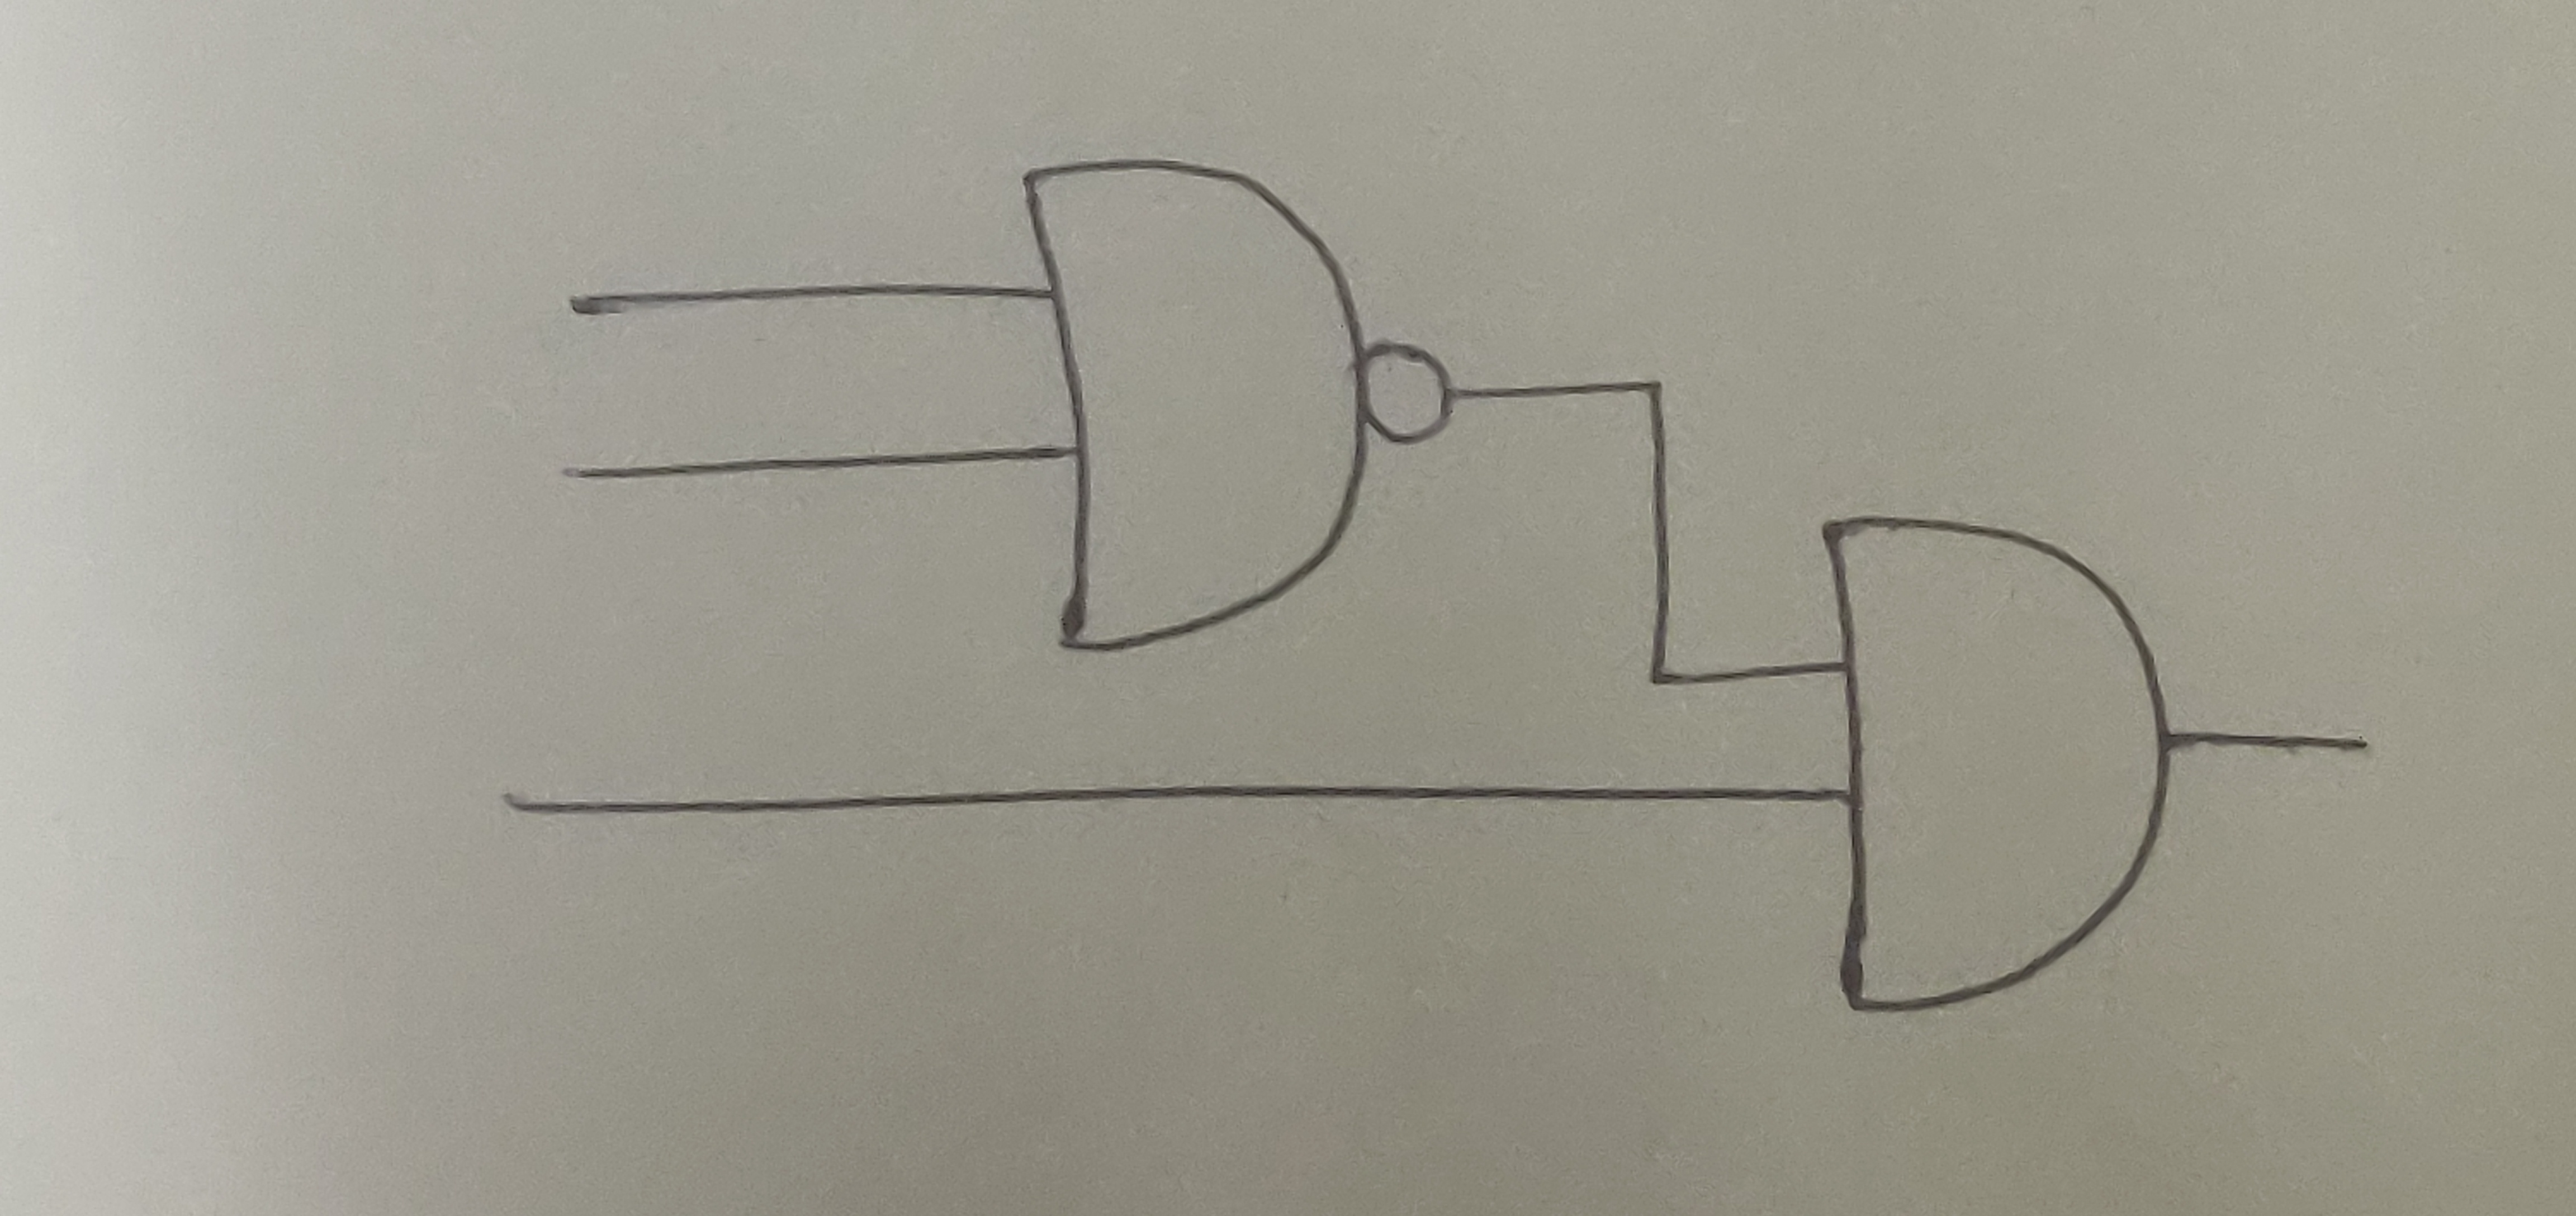and: (1814, 513, 2182, 1022), (1012, 151, 1367, 657)
not: (1354, 329, 1456, 454)
